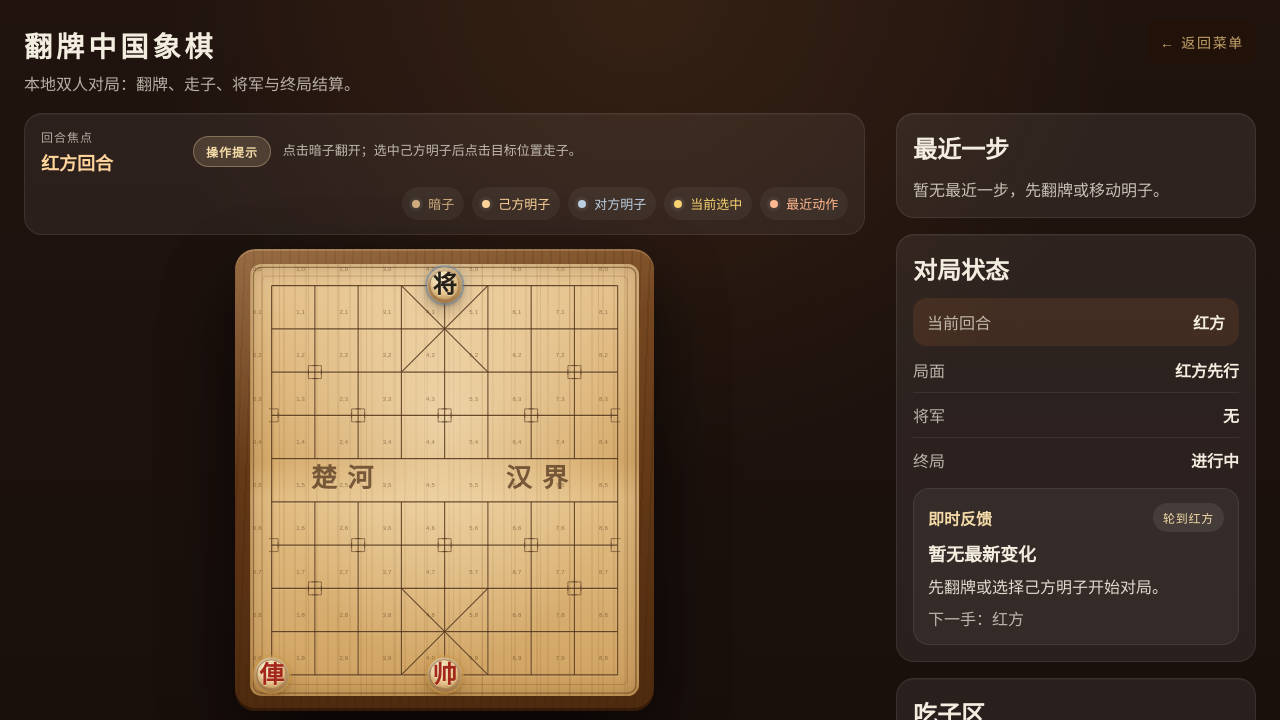
interaction feedback › cancels selection when the selected revealed piece is clicked again
The image size is (1280, 720).
Click the button with test id "cell-0-9". click: coordinates (272, 675)
box: [250,653,293,696]
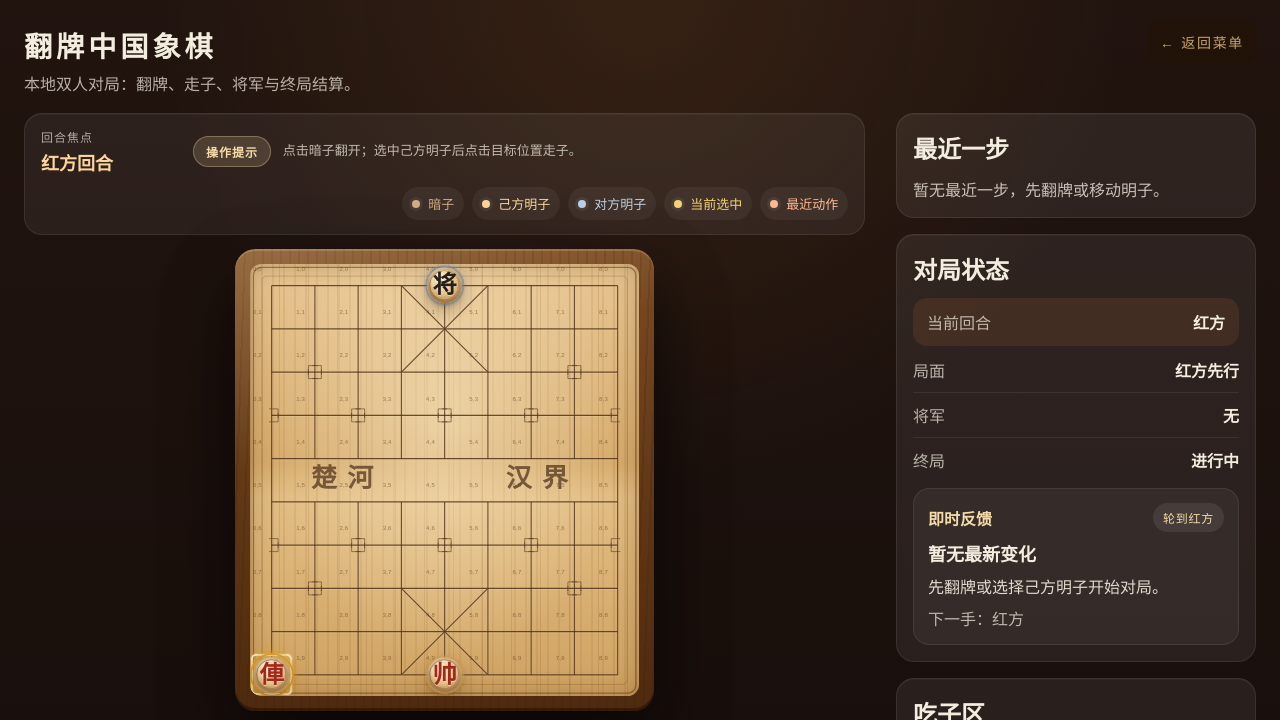
expect the button with test id "cell-0-9" is pressed: met
Click the button with test id "cell-0-9". click: coordinates (272, 675)
box: [250,653,293,696]
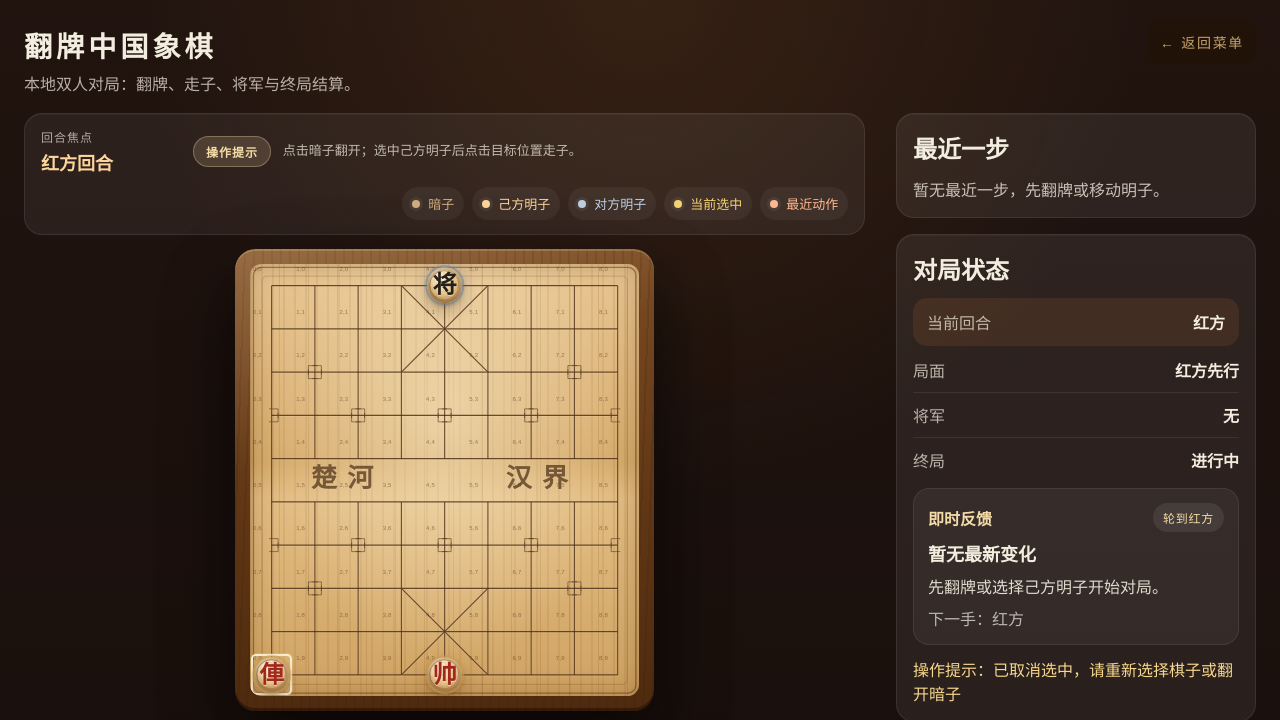
expect the text "操作提示：已取消选中，请重新选择棋子或翻开暗子" is shown: met, box [913,657,1239,705]
